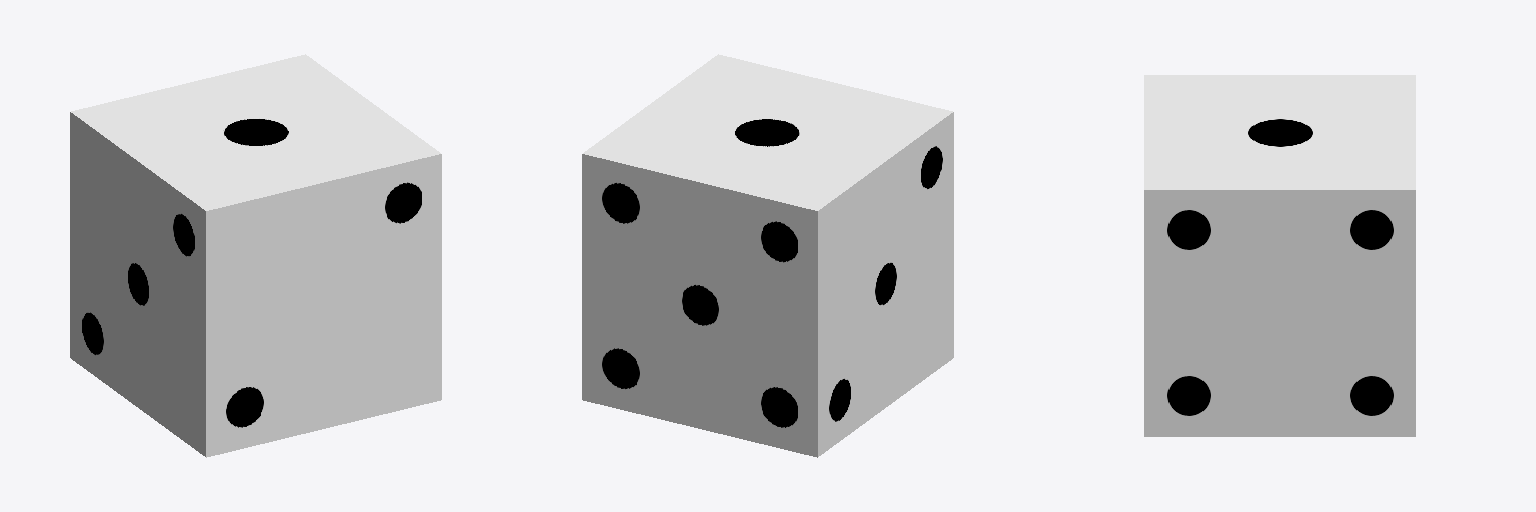
3 renders of one model, left to right at view 1: azimuth 30°, elevation 25°; view 2: azimuth 150°, elevation 25°; view 3: azimuth 270°, elevation 25°, orthographic.
Visible parts, largest first — view 1: Dice; view 2: Dice; view 3: Dice.
Boxes of the visible parts, box(x1,y1,x2,y2) form: Dice: box(70, 54, 441, 457); Dice: box(582, 54, 953, 457); Dice: box(1144, 75, 1415, 436).
Size of the model in its own units: 2 by 2 by 2.
6 materials, 6 textured.